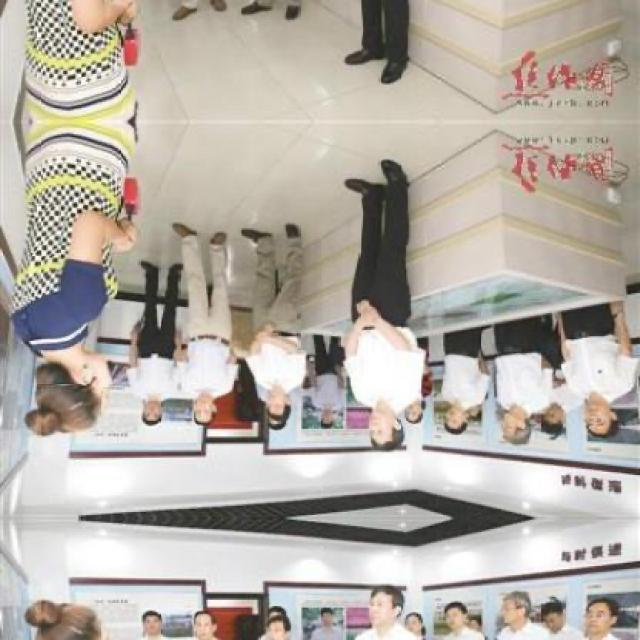sin casco: (0, 272, 120, 464), (556, 361, 640, 452), (482, 388, 542, 468), (352, 384, 407, 464), (132, 374, 181, 441), (231, 383, 285, 437), (183, 363, 221, 439), (424, 389, 473, 445)
